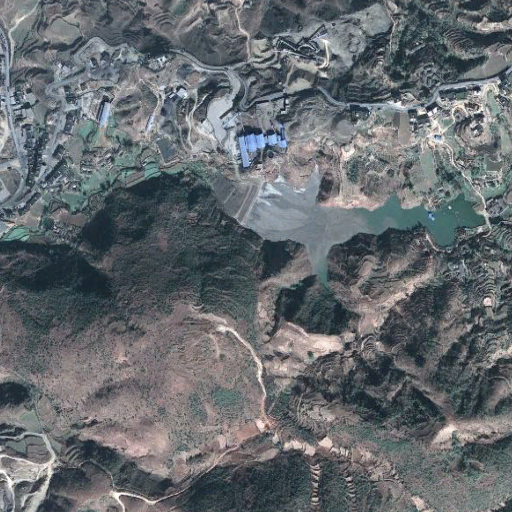tp: (200, 162, 488, 282)
